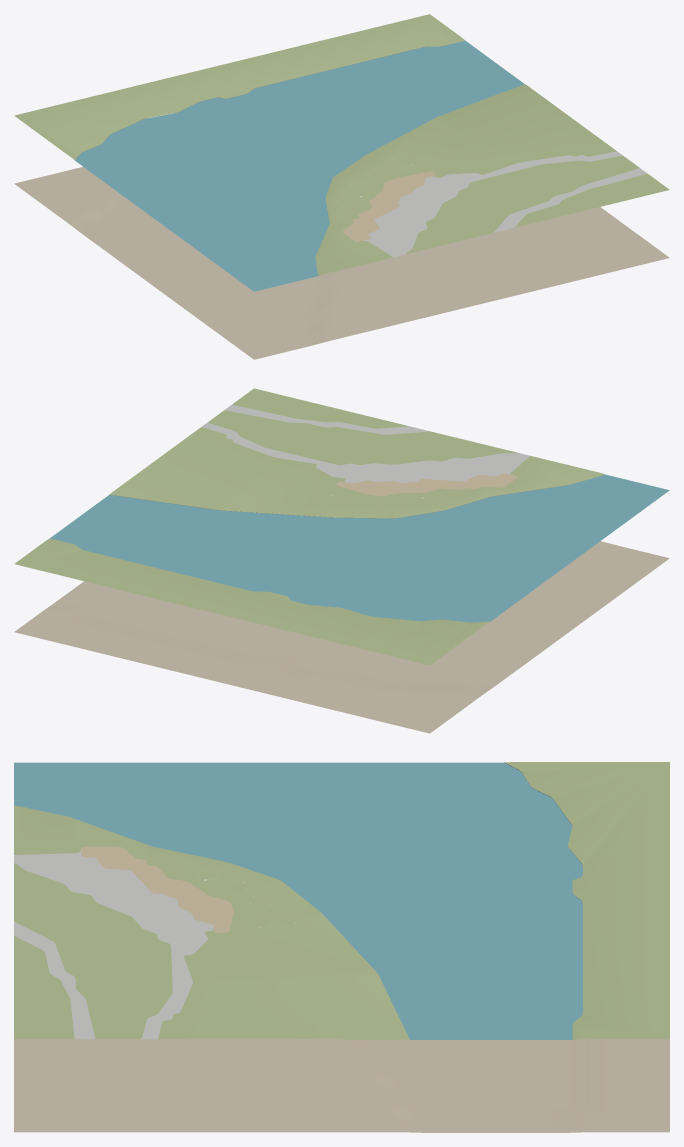
3 renders of one model, top to bottom at view 1: azimuth 30°, elevation 25°; view 2: azimuth 150°, elevation 25°; view 3: azimuth 270°, elevation 25°, orthographic. The views are drawn at different scales.
Parts seen in each view (by area): view 1: s_-12_-7__water, s_-12_-7__grass, s_-12_-7__soil, s_-12_-7__stone_paving, s_-12_-7__timber_deck; view 2: s_-12_-7__water, s_-12_-7__grass, s_-12_-7__soil, s_-12_-7__stone_paving, s_-12_-7__timber_deck; view 3: s_-12_-7__water, s_-12_-7__grass, s_-12_-7__soil, s_-12_-7__stone_paving, s_-12_-7__timber_deck.
Part boxes in pixels (box(x1,y1,x2,y2)): s_-12_-7__water: box(75, 40, 524, 291); s_-12_-7__grass: box(14, 14, 669, 275); s_-12_-7__soil: box(14, 167, 669, 359); s_-12_-7__stone_paving: box(363, 151, 647, 257); s_-12_-7__timber_deck: box(342, 171, 435, 241); s_-12_-7__water: box(50, 474, 669, 622); s_-12_-7__grass: box(14, 388, 604, 665); s_-12_-7__soil: box(14, 541, 669, 733); s_-12_-7__stone_paving: box(202, 404, 529, 483); s_-12_-7__timber_deck: box(336, 473, 517, 496); s_-12_-7__water: box(14, 762, 582, 1039); s_-12_-7__grass: box(14, 762, 669, 1039); s_-12_-7__soil: box(14, 1039, 669, 1132); s_-12_-7__stone_paving: box(14, 850, 213, 1039); s_-12_-7__timber_deck: box(81, 846, 233, 932).
Size of the model in its own units: 128 by 20.17 by 128.
